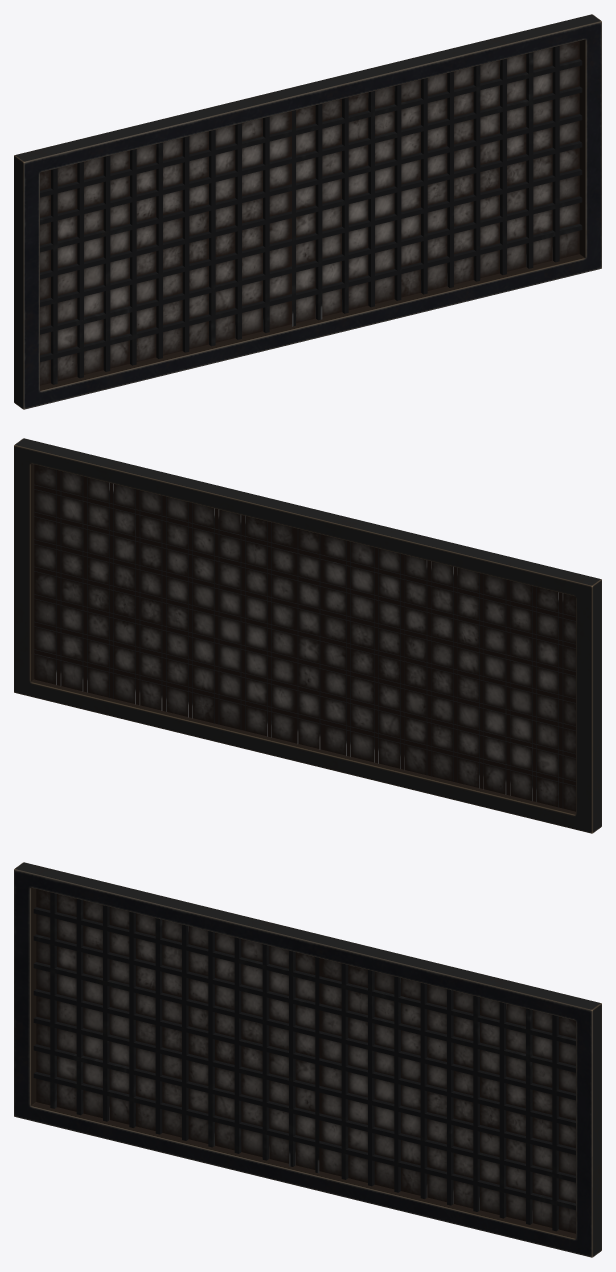
The model's file is SM_Wall_Pannels_06.fbx.
3 views of the same model, one above another, from view 1: azimuth 30°, elevation 25°; view 2: azimuth 150°, elevation 25°; view 3: azimuth 330°, elevation 25° (orthographic).
Visible parts, largest first — view 1: SM_Wall_Pannels_06_LOD0; view 2: SM_Wall_Pannels_06_LOD0; view 3: SM_Wall_Pannels_06_LOD0.
Part boxes in pixels (x1,y1,x2,y2): SM_Wall_Pannels_06_LOD0: [14, 14, 601, 409]; SM_Wall_Pannels_06_LOD0: [14, 438, 601, 833]; SM_Wall_Pannels_06_LOD0: [14, 862, 601, 1257].
Bounding box in the file's own units: 428 × 12.7 × 175.
